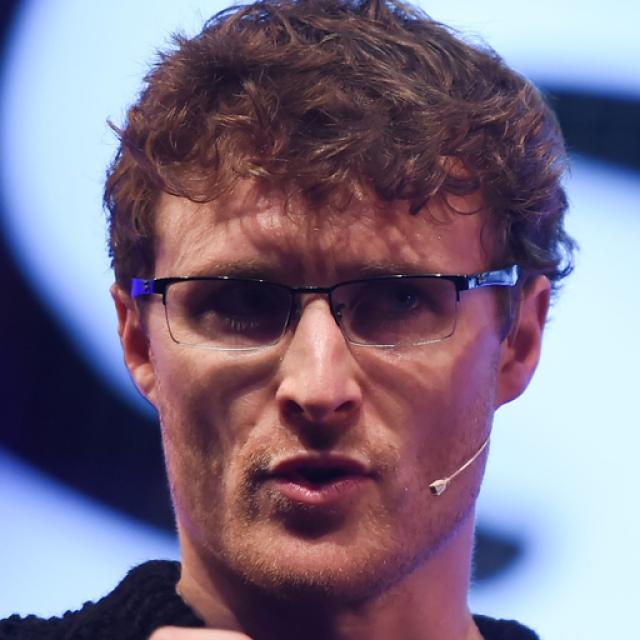Acne: (205, 454, 227, 480)
